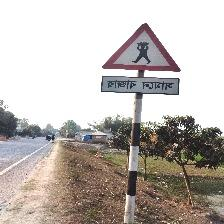Market-in-front: (100, 23, 182, 97)
